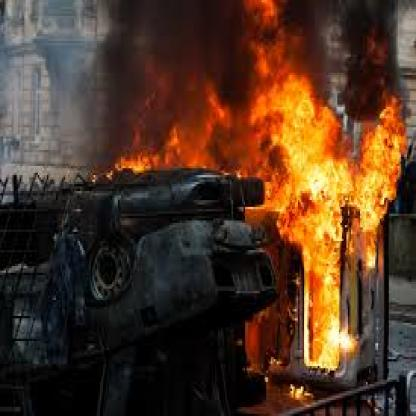fire: (136, 80, 390, 402)
